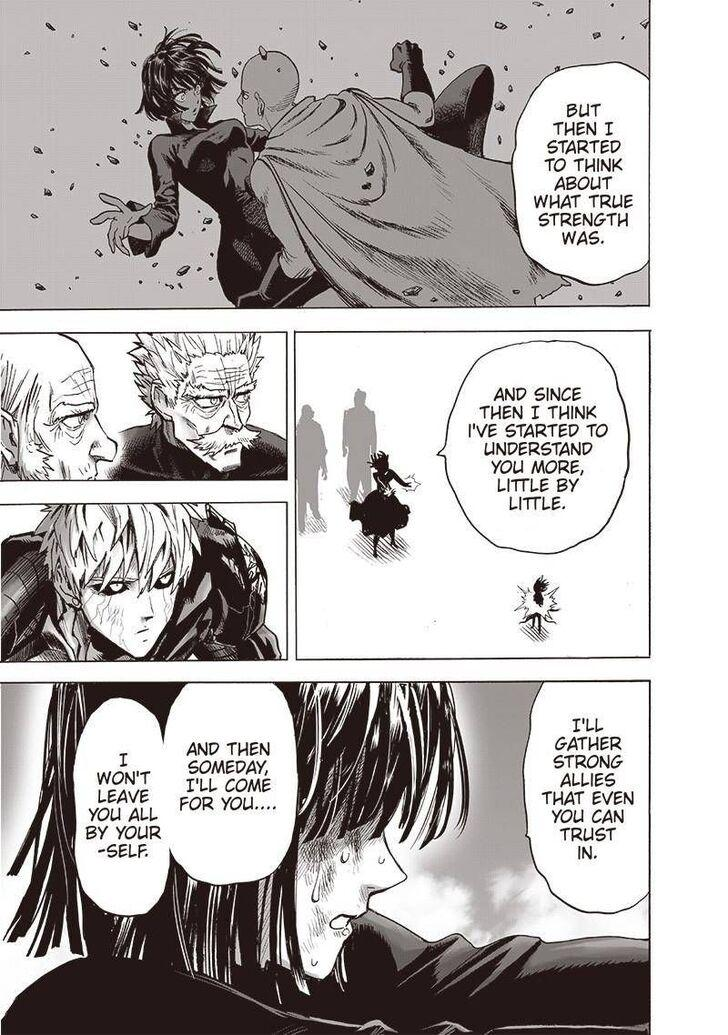Bubble: (443, 339, 632, 556), (510, 58, 653, 287), (522, 679, 651, 915), (174, 681, 300, 888), (71, 680, 169, 917)
